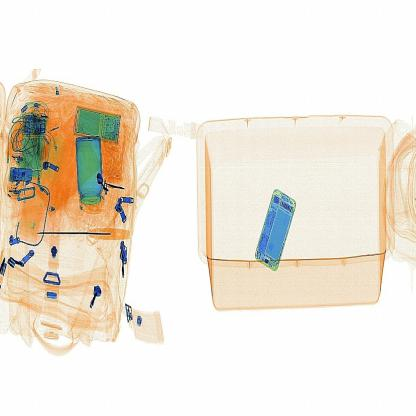wrench: (27, 219, 135, 252)
